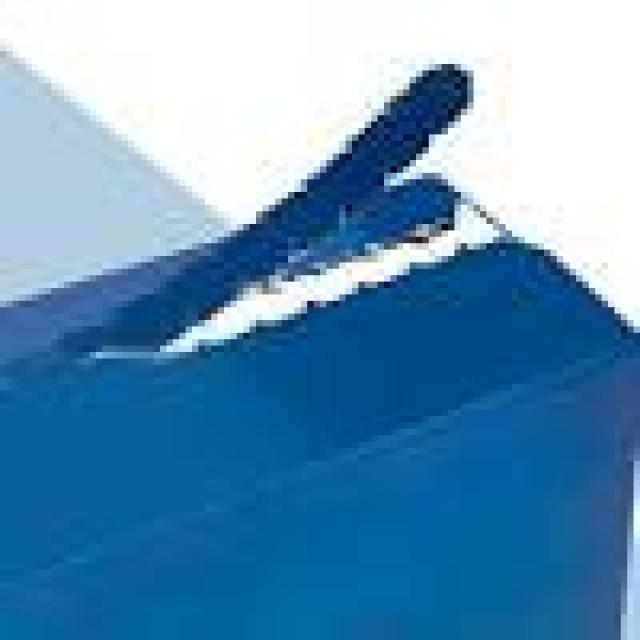tear: (90, 64, 546, 357)
